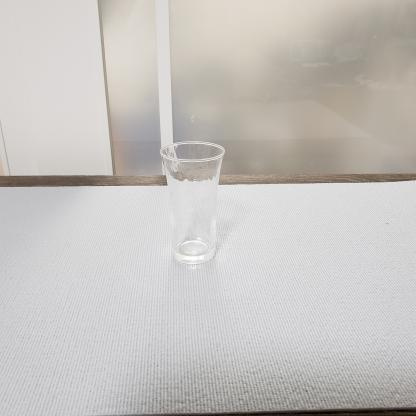glass: (153, 136, 241, 276)
